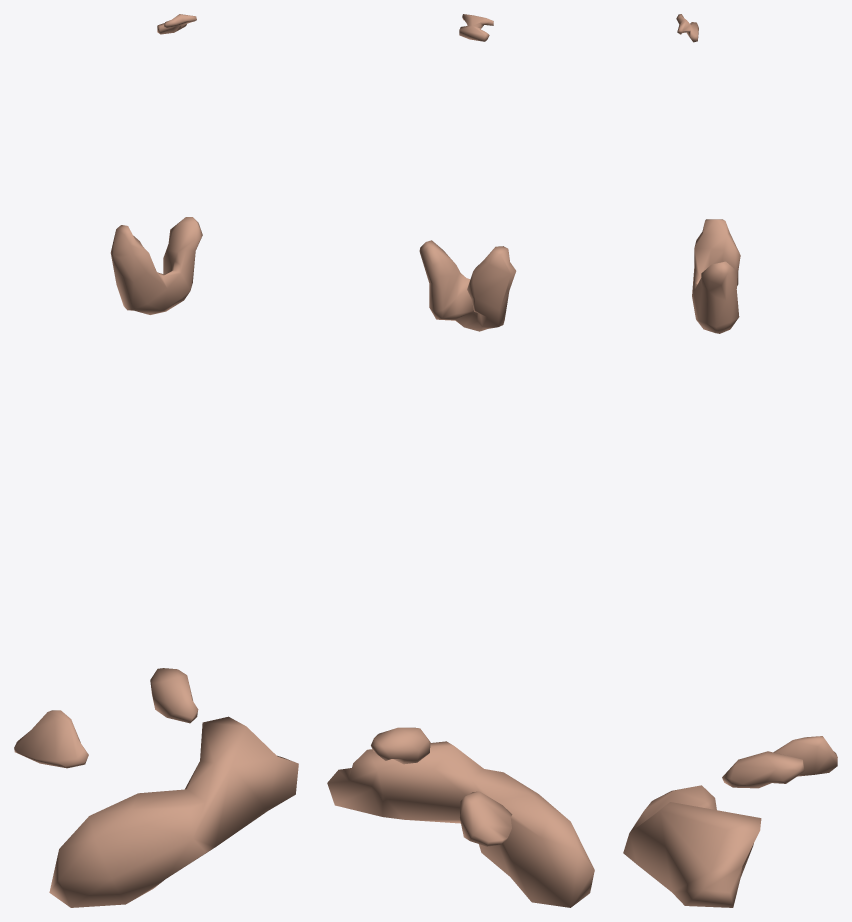
Rendered from icrp_adult_female.endocrine.LOD3.glb.
3 views of the same model, side by side, from view 1: azimuth 30°, elevation 25°; view 2: azimuth 150°, elevation 25°; view 3: azimuth 270°, elevation 25° (orthographic). The views are drawn at different scales.
Parts seen in each view (by area): view 1: ICRP.ADULT.FEMALE.ENDOCRINE.PANCREAS, ICRP.ADULT.FEMALE.ENDOCRINE.THYROID, ICRP.ADULT.FEMALE.ENDOCRINE.ADRENAL.R, ICRP.ADULT.FEMALE.ENDOCRINE.ADRENAL.L; view 2: ICRP.ADULT.FEMALE.ENDOCRINE.PANCREAS, ICRP.ADULT.FEMALE.ENDOCRINE.THYROID, ICRP.ADULT.FEMALE.ENDOCRINE.ADRENAL.R, ICRP.ADULT.FEMALE.ENDOCRINE.ADRENAL.L, ICRP.ADULT.FEMALE.ENDOCRINE.PITUITARY_GLAND; view 3: ICRP.ADULT.FEMALE.ENDOCRINE.PANCREAS, ICRP.ADULT.FEMALE.ENDOCRINE.THYROID, ICRP.ADULT.FEMALE.ENDOCRINE.ADRENAL.L, ICRP.ADULT.FEMALE.ENDOCRINE.ADRENAL.R.
Part boxes in pixels (box(x1,y1,x2,y2)): ICRP.ADULT.FEMALE.ENDOCRINE.PANCREAS: box(49, 716, 298, 907); ICRP.ADULT.FEMALE.ENDOCRINE.THYROID: box(110, 217, 202, 314); ICRP.ADULT.FEMALE.ENDOCRINE.ADRENAL.R: box(14, 710, 88, 768); ICRP.ADULT.FEMALE.ENDOCRINE.ADRENAL.L: box(150, 668, 198, 723); ICRP.ADULT.FEMALE.ENDOCRINE.PANCREAS: box(327, 741, 594, 907); ICRP.ADULT.FEMALE.ENDOCRINE.THYROID: box(419, 240, 516, 331); ICRP.ADULT.FEMALE.ENDOCRINE.ADRENAL.R: box(460, 791, 512, 846); ICRP.ADULT.FEMALE.ENDOCRINE.ADRENAL.L: box(371, 727, 430, 764); ICRP.ADULT.FEMALE.ENDOCRINE.PITUITARY_GLAND: box(459, 14, 493, 41); ICRP.ADULT.FEMALE.ENDOCRINE.PANCREAS: box(623, 785, 761, 907); ICRP.ADULT.FEMALE.ENDOCRINE.THYROID: box(692, 219, 740, 333); ICRP.ADULT.FEMALE.ENDOCRINE.ADRENAL.L: box(722, 751, 804, 788); ICRP.ADULT.FEMALE.ENDOCRINE.ADRENAL.R: box(773, 736, 837, 776).
Bounding box in the file's own units: 0.1422 × 0.4698 × 0.1034.
